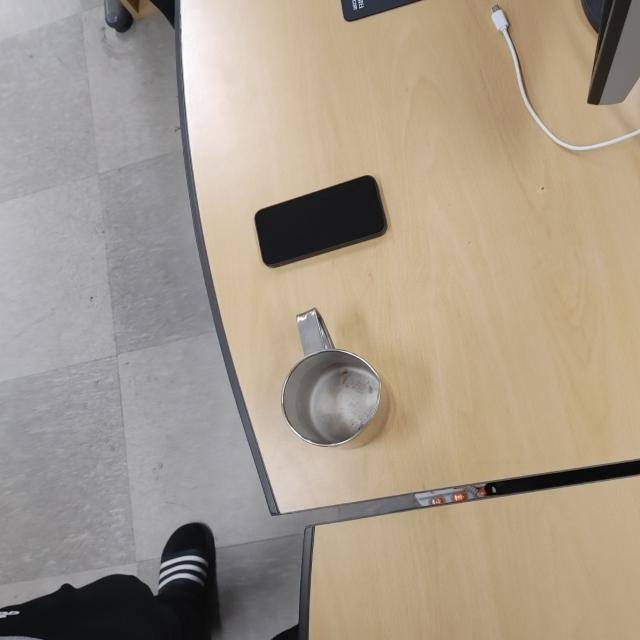cup: (280, 308, 389, 450)
phone: (253, 176, 390, 270)
